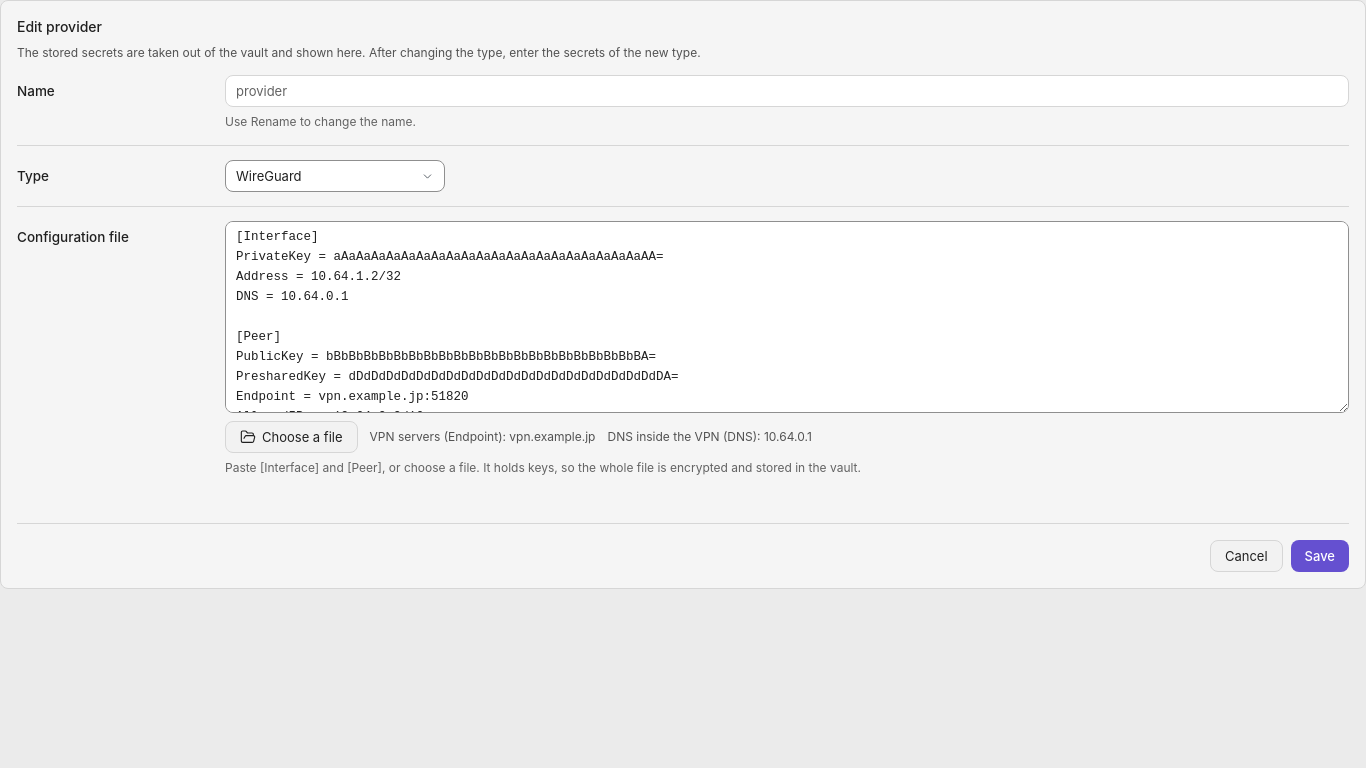
Scenario: VPNProfileForm with WireGuard › forgets the configuration file it took out when editing is cancelled
Click the button "Cancel" at (1246, 556), box [1210, 540, 1282, 572]
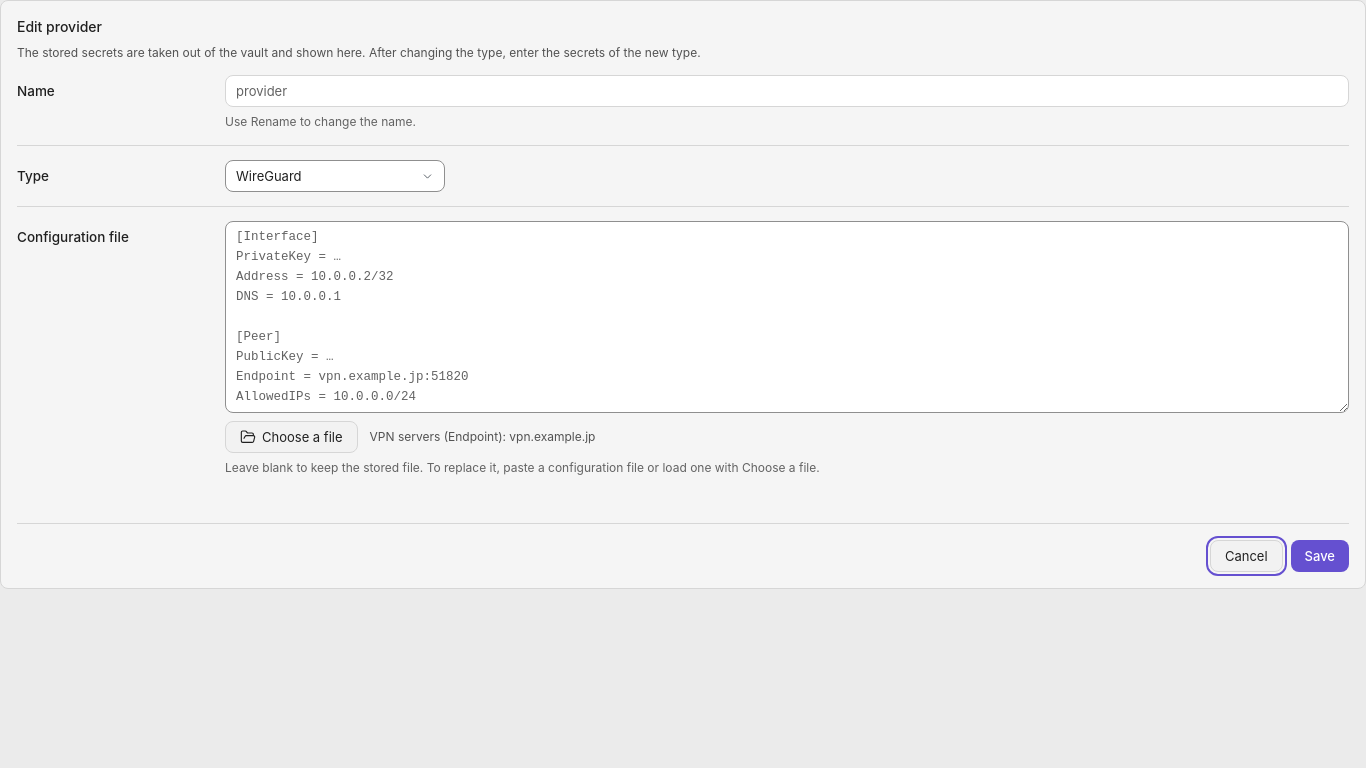
Result: the text box named "Configuration file" is empty at [225, 221, 1349, 413]
